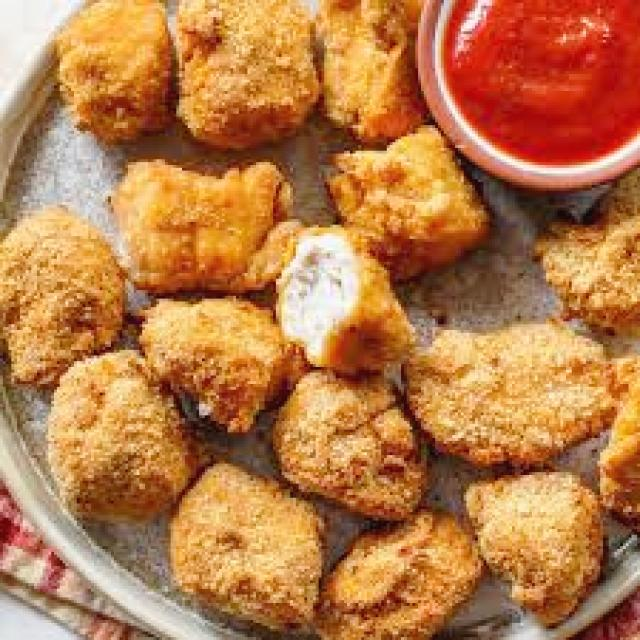chicken_nuggets: (412, 322, 611, 465), (172, 460, 326, 631), (50, 348, 199, 520), (119, 158, 294, 293), (274, 369, 428, 517), (138, 299, 300, 436), (1, 209, 122, 390), (332, 128, 486, 270), (465, 473, 606, 627), (276, 228, 417, 376), (176, 2, 318, 148), (324, 509, 481, 640), (537, 164, 640, 321), (60, 1, 172, 140), (317, 3, 424, 138)
ketchup: (458, 0, 640, 163)
